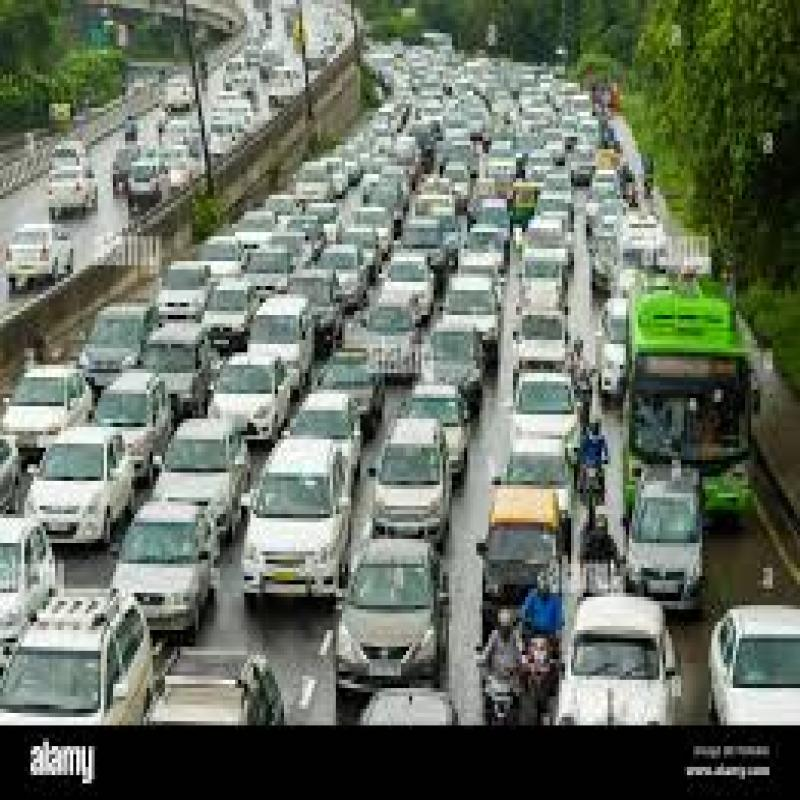auto: (480, 486, 568, 615)
bike: (475, 648, 525, 733), (577, 447, 610, 520)
car: (562, 591, 688, 764), (16, 590, 150, 742), (247, 444, 348, 633), (325, 538, 454, 684), (373, 406, 466, 536), (28, 420, 126, 542), (710, 591, 800, 721), (123, 503, 217, 626), (297, 372, 373, 471), (218, 340, 286, 439), (508, 365, 586, 448), (7, 227, 84, 293), (42, 137, 98, 225), (449, 272, 499, 342)
